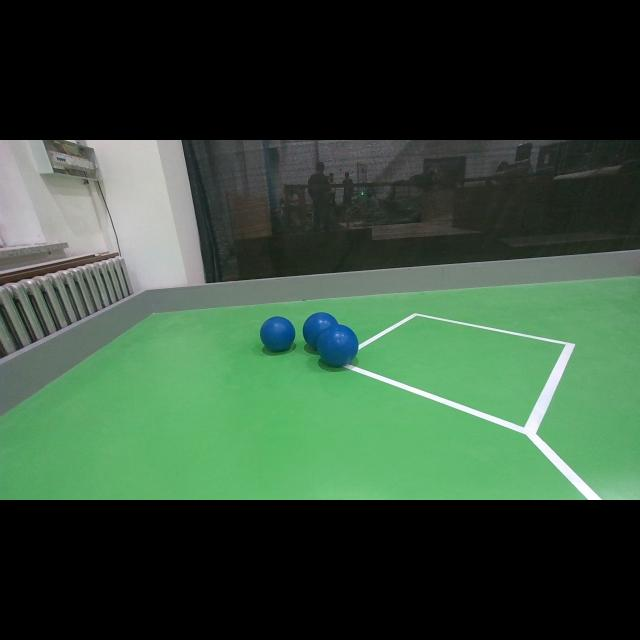B: (316, 324, 358, 366), (298, 311, 339, 347), (260, 316, 296, 352)
